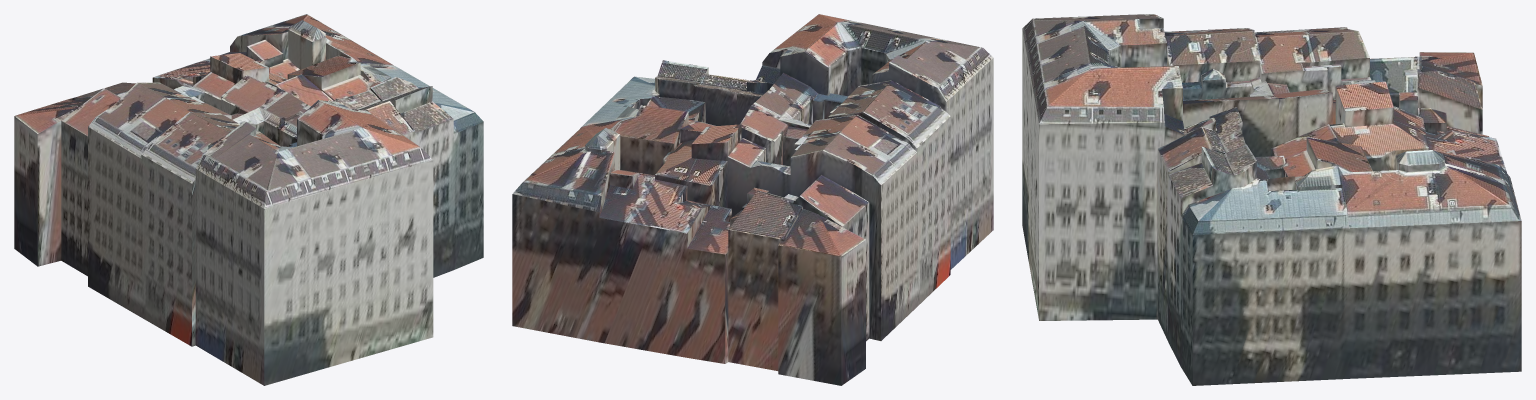
File: LYON_1ER_00126.dae
The picture shows the model from 3 angles, left to right: view 1: azimuth 30°, elevation 25°; view 2: azimuth 150°, elevation 25°; view 3: azimuth 270°, elevation 25°; orthographic projection. The views are drawn at different scales.
Bounding box in the file's own units: 55.34 × 62.64 × 31.94.
2 materials, 2 textured.
